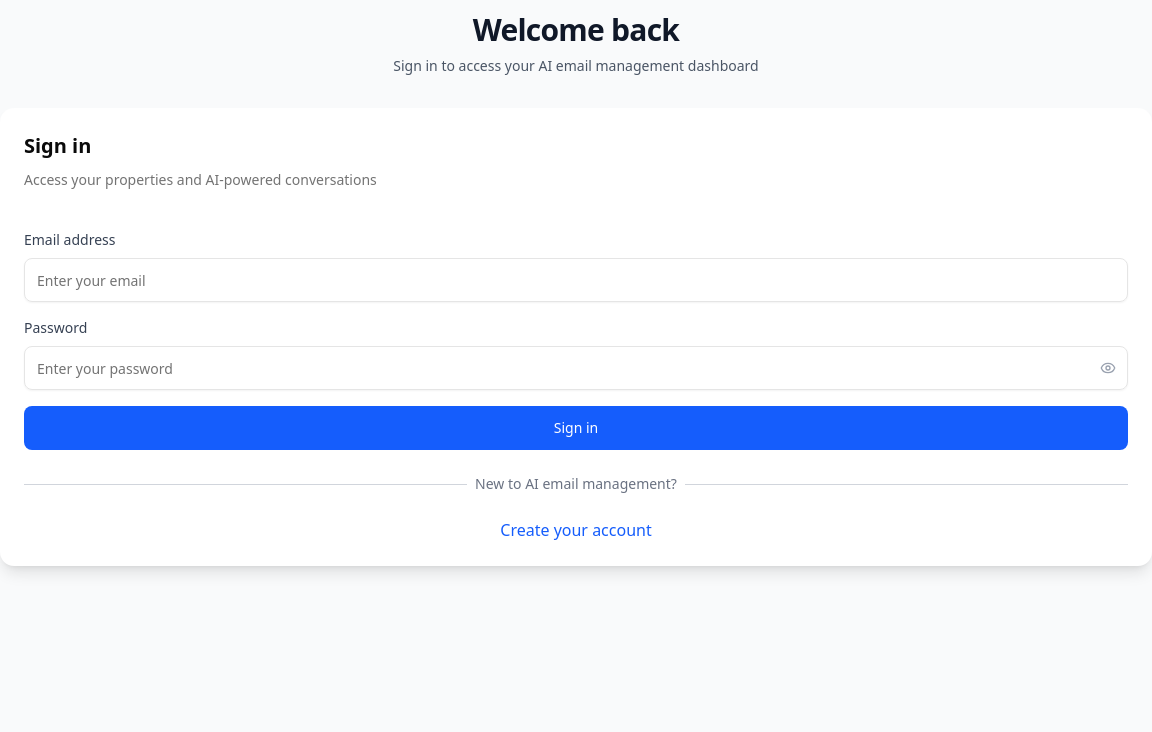
Test: Authentication System › LoginPage › validates form fields
Click the button "Sign in": (576, 428) [24,406,1128,450]
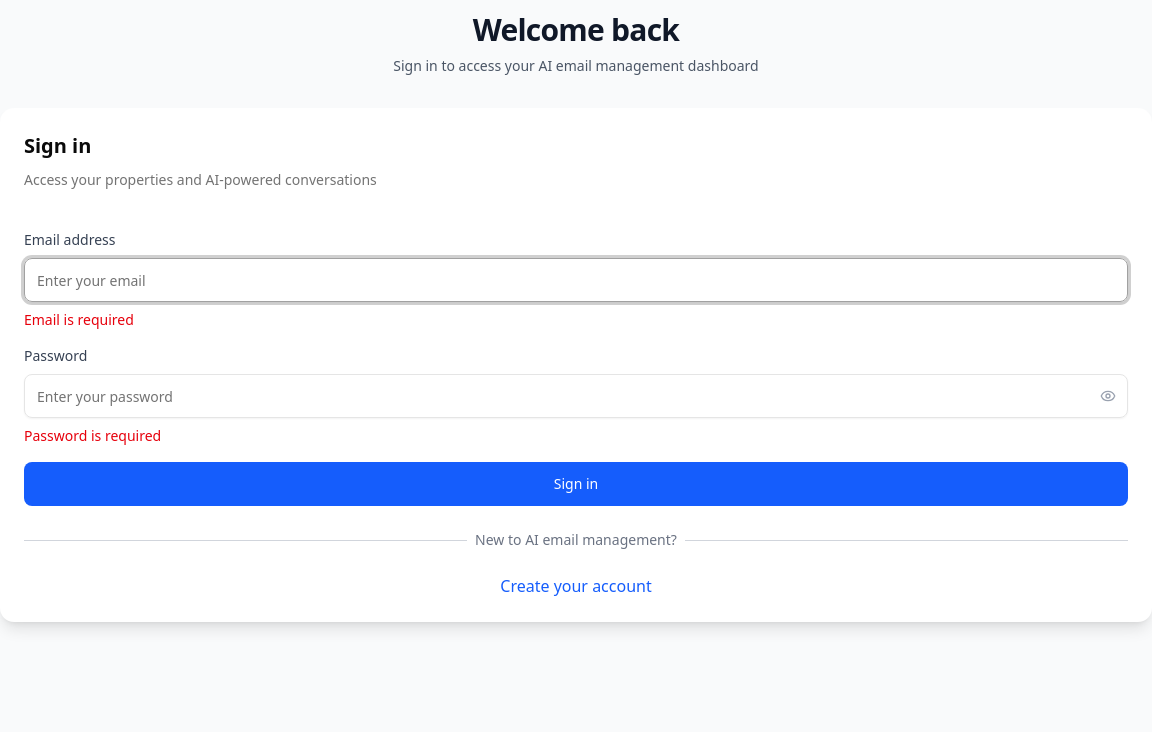
Check: the text "Email is required" is shown, box [24,310,134,329]
Check: the text "Password is required" is shown, box [24,426,161,445]
